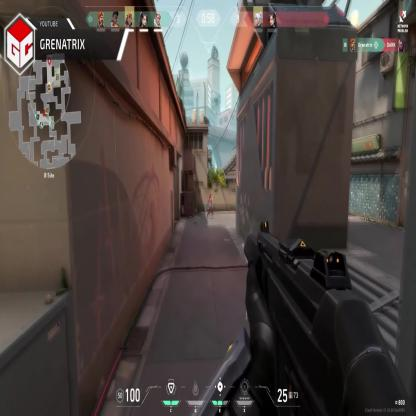enemy: (207, 192, 214, 220)
enemy_head: (209, 193, 212, 200)
